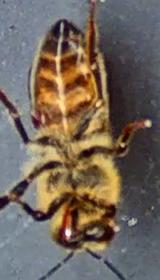varroa_mite: (30, 102, 50, 133)
